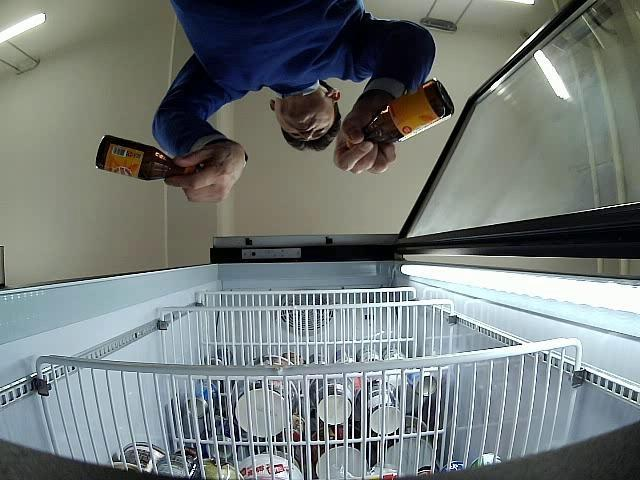17_vita500: (366, 79, 459, 152), (93, 134, 187, 182)
